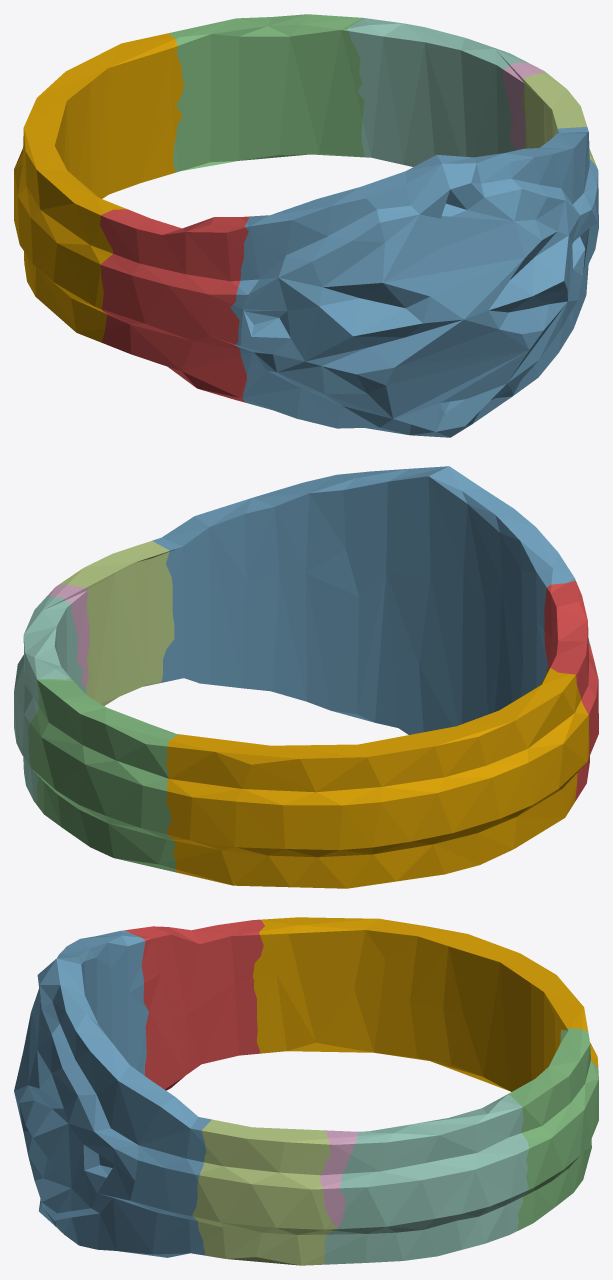
The model's file is fractured_66_8pcs.glb.
The picture shows the model from 3 angles, top to bottom: view 1: azimuth 30°, elevation 25°; view 2: azimuth 150°, elevation 25°; view 3: azimuth 270°, elevation 25°; orthographic projection. The views are drawn at different scales.
Parts seen in each view (by area): view 1: piece_2.obj, piece_0.obj, piece_3.obj, piece_1.obj, piece_4.obj, piece_5.obj, piece_6.obj; view 2: piece_2.obj, piece_0.obj, piece_3.obj, piece_5.obj, piece_4.obj, piece_1.obj, piece_6.obj; view 3: piece_2.obj, piece_0.obj, piece_4.obj, piece_5.obj, piece_1.obj, piece_3.obj, piece_6.obj.
Boxes of the visible parts, x1=… form: piece_2.obj: x1=230, y1=127, x2=598, y2=437; piece_0.obj: x1=14, y1=33, x2=183, y2=342; piece_3.obj: x1=169, y1=14, x2=364, y2=172; piece_1.obj: x1=100, y1=209, x2=249, y2=402; piece_4.obj: x1=347, y1=18, x2=529, y2=166; piece_5.obj: x1=522, y1=72, x2=596, y2=166; piece_6.obj: x1=503, y1=62, x2=545, y2=150; piece_2.obj: x1=152, y1=466, x2=589, y2=734; piece_0.obj: x1=166, y1=668, x2=589, y2=888; piece_3.obj: x1=28, y1=678, x2=178, y2=872; piece_5.obj: x1=58, y1=541, x2=174, y2=705; piece_4.obj: x1=14, y1=595, x2=86, y2=804; piece_1.obj: x1=544, y1=580, x2=598, y2=801; piece_6.obj: x1=48, y1=584, x2=89, y2=688; piece_2.obj: x1=14, y1=930, x2=211, y2=1257; piece_0.obj: x1=252, y1=917, x2=598, y2=1091; piece_4.obj: x1=323, y1=1095, x2=529, y2=1264; piece_5.obj: x1=192, y1=1119, x2=336, y2=1265; piece_1.obj: x1=125, y1=919, x2=264, y2=1090; piece_3.obj: x1=506, y1=1028, x2=598, y2=1230; piece_6.obj: x1=319, y1=1130, x2=357, y2=1227.
Size of the model in its own units: 0.9505 by 0.4981 by 1.
